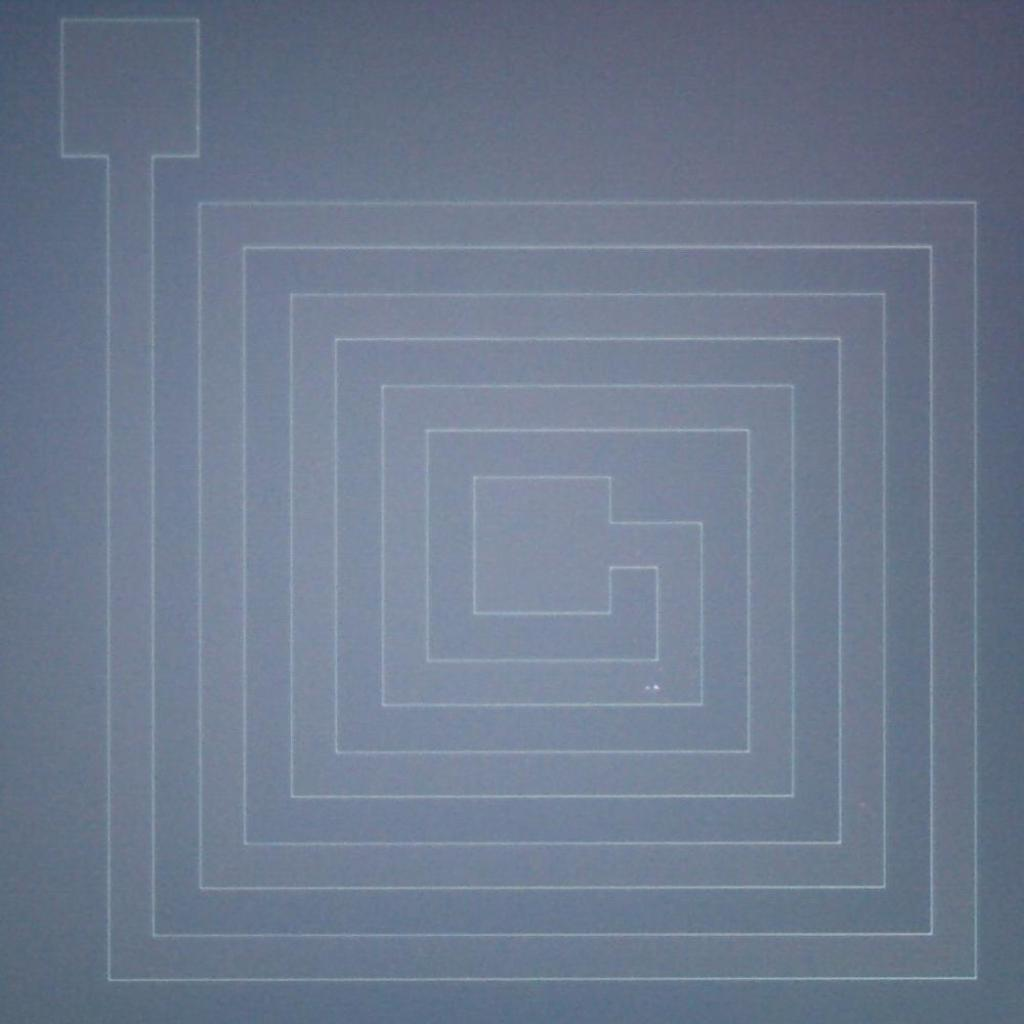dot: (653, 684, 659, 690)
